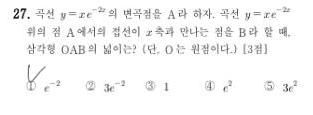choice: (23, 72, 39, 92)
not-choice: (202, 78, 216, 92), (143, 78, 156, 91), (84, 79, 96, 92), (262, 78, 274, 91)
